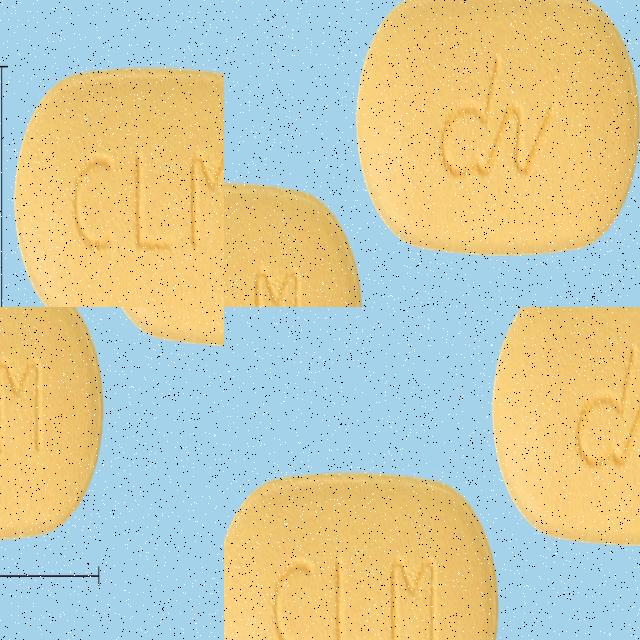Ciracle: (404, 135, 579, 307), (224, 138, 282, 307)
Clamicin: (224, 470, 500, 640), (490, 307, 640, 551)
Crema: (10, 71, 224, 307)
Cyclin: (0, 307, 104, 538)
